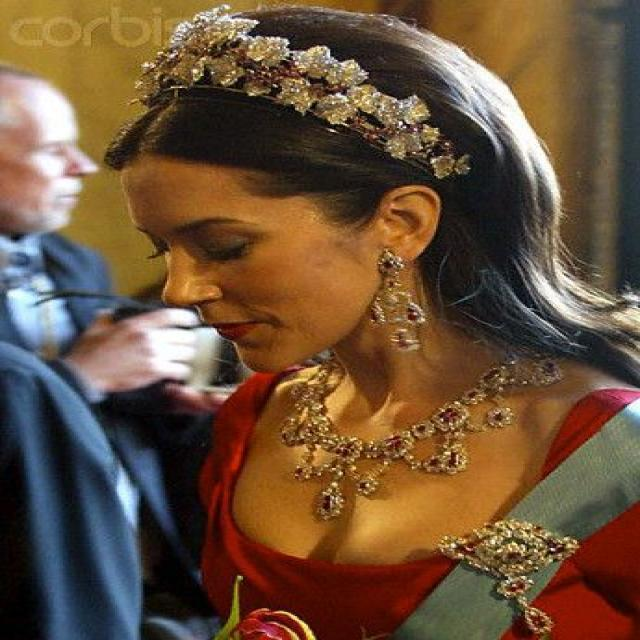Earring: (361, 228, 436, 364)
